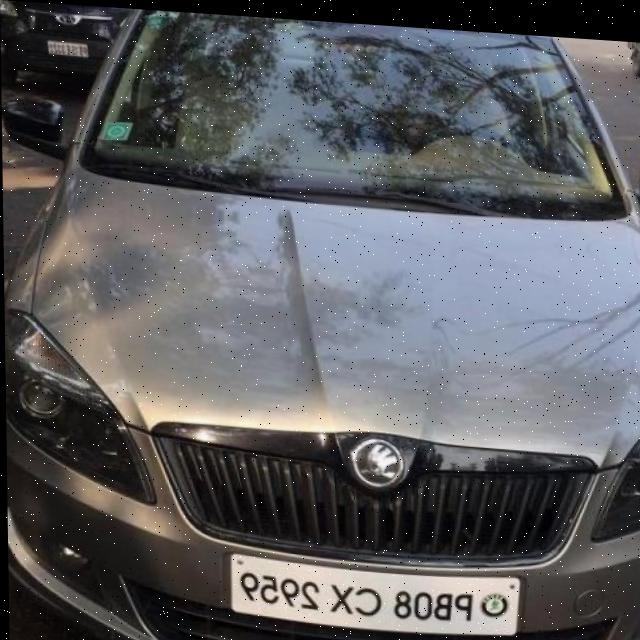plate: (227, 548, 524, 634)
